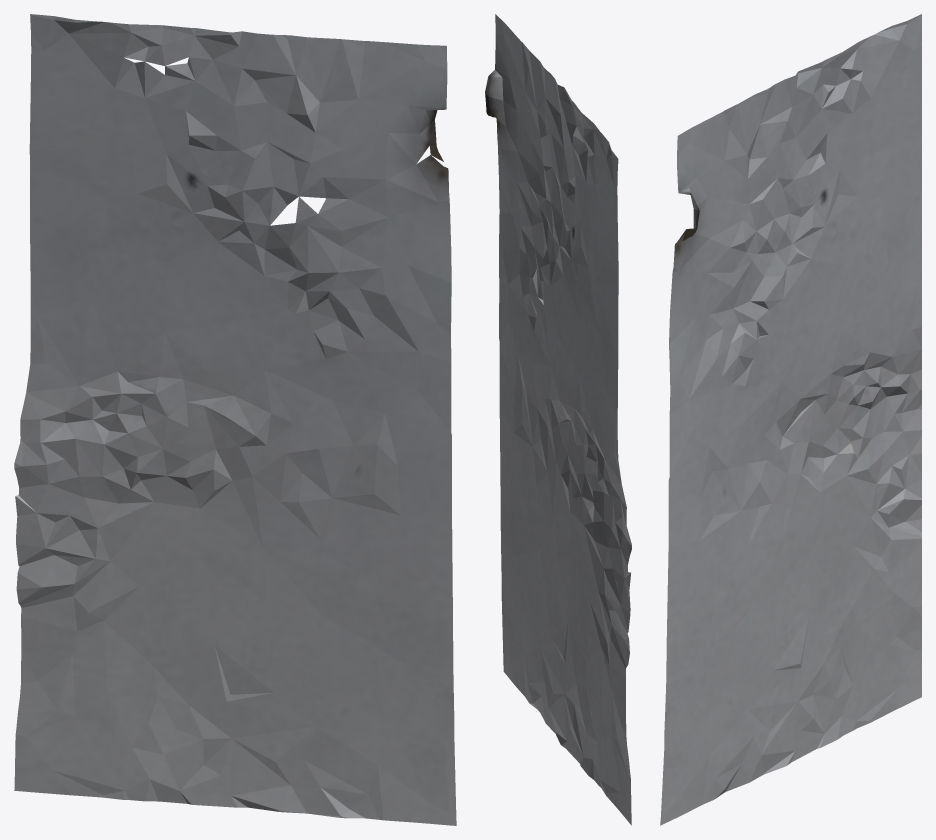
3 views of the same model, side by side, from view 1: azimuth 30°, elevation 25°; view 2: azimuth 150°, elevation 25°; view 3: azimuth 270°, elevation 25° (orthographic). The views are drawn at different scales.
Size of the model in its own units: 0.6708 by 1.67 by 0.5757.
2 materials, 2 textured.
